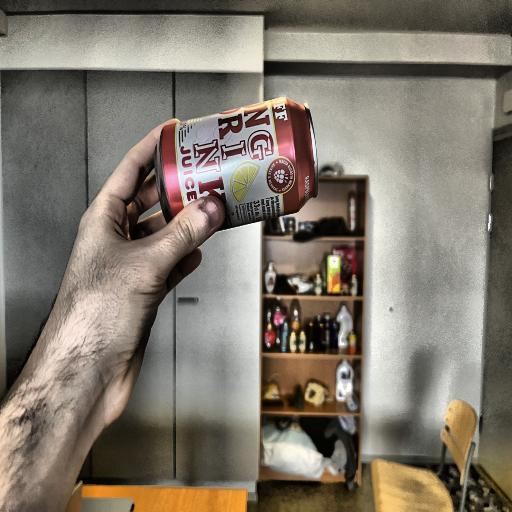koff: (151, 95, 319, 239)
